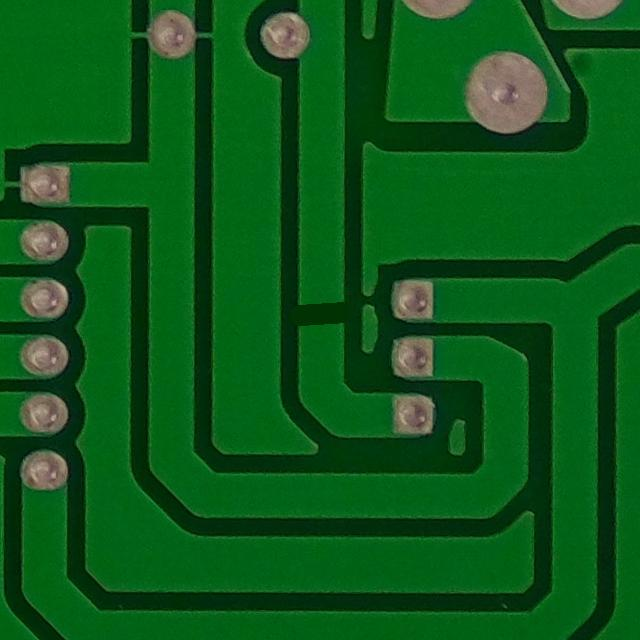open_circuit: (287, 290, 354, 350)
